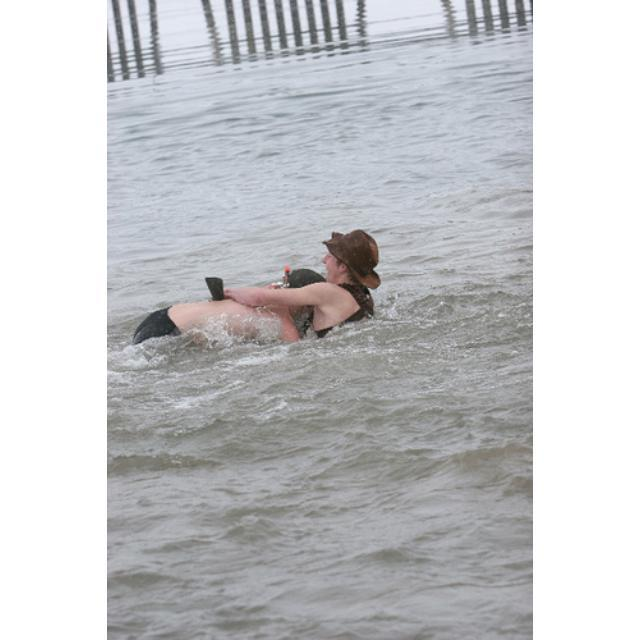human: (134, 266, 314, 347), (316, 230, 380, 340)
